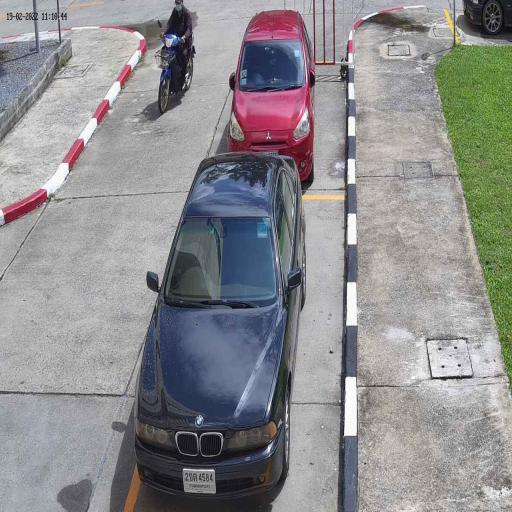car: (132, 149, 308, 505), (227, 7, 317, 186)
motorcycle: (155, 30, 196, 115)
